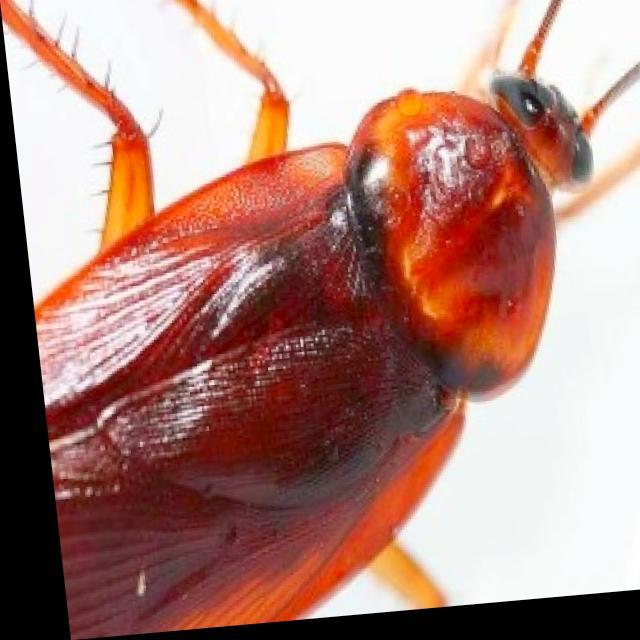cockroach: (7, 1, 638, 630)
